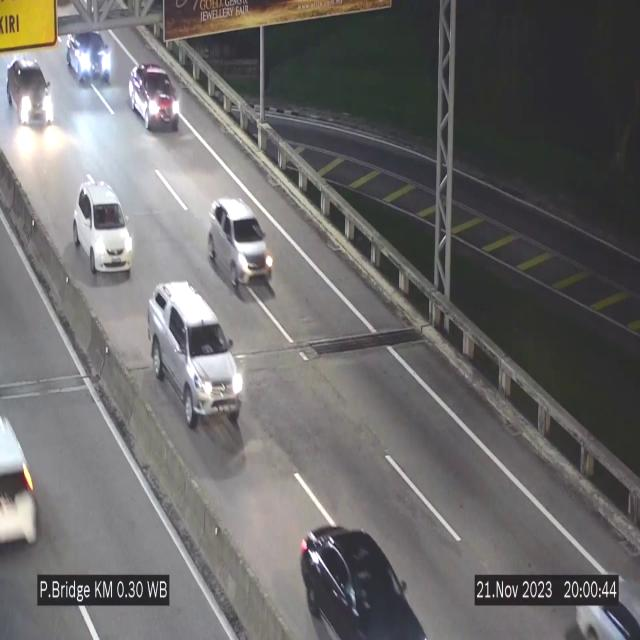Car: (292, 511, 430, 640), (148, 282, 244, 428), (0, 383, 54, 568), (209, 198, 272, 292), (73, 181, 133, 278), (568, 570, 640, 640), (4, 56, 60, 134), (128, 61, 179, 131), (62, 25, 114, 88)
